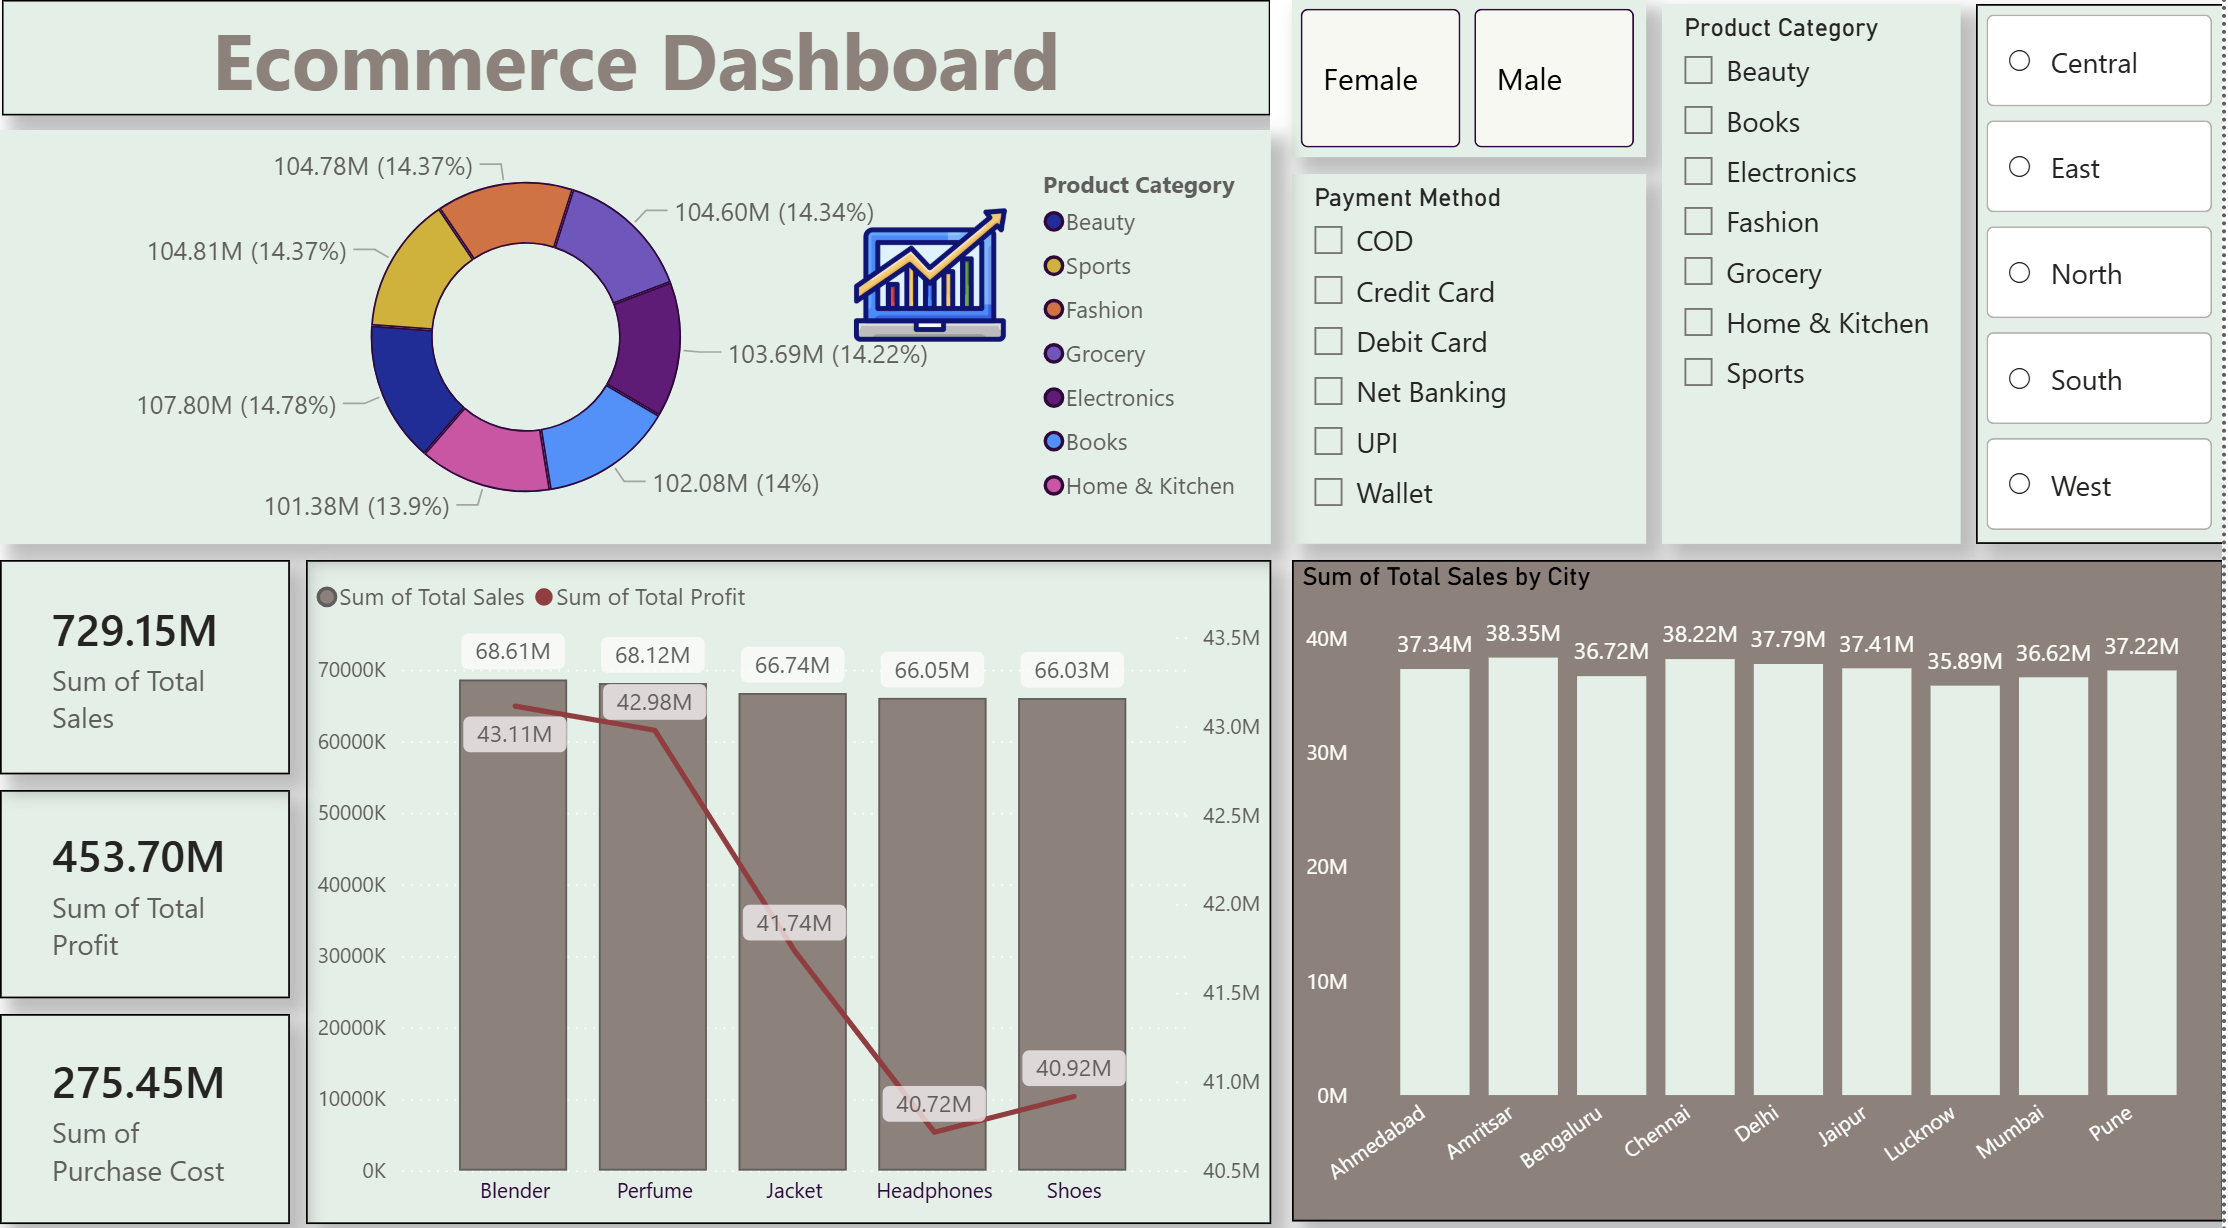

The page's visual inventory and layout, read from the dashboard file:
{"tool":"powerbi","page":{"name":"Page 1","canvas":[1280,720],"ordinal":0},"visuals":[{"type":"shape","box":[1.3,7.6,730.5,66.3],"z":0},{"type":"shape","box":[731.9,0,548.1,321.5],"z":1000},{"type":"advancedSlicerVisual","fields":{"Values":["Ecommerce Sales Data.Gender"]},"box":[744.5,7.6,204,90.5],"z":2000},{"type":"slicer","fields":{"Values":["Ecommerce Sales Data.Payment Method"]},"box":[744.5,108.4,204,212.9],"z":3000},{"type":"slicer","fields":{"Values":["Ecommerce Sales Data.Product Category"]},"box":[957.5,10.2,172.1,311.1],"z":4000},{"type":"lineClusteredColumnComboChart","fields":{"Y":["Sum(Ecommerce Sales Data.Amount)"],"Category":["Ecommerce Sales Data.Product Name"],"Y2":["Sum(Ecommerce Sales Data.Profit)"]},"box":[175.9,330.2,555.9,382.5],"z":5000},{"type":"advancedSlicerVisual","fields":{"Values":["Ecommerce Sales Data.Region"]},"box":[1138.5,10.2,142.8,311.1],"z":6000},{"type":"columnChart","fields":{"Category":["Ecommerce Sales Data.Payment Method","Ecommerce Sales Data.City"],"Y":["Sum(Ecommerce Sales Data.Total Sales)"]},"box":[744.5,330.2,536.7,381.2],"z":7000},{"type":"donutChart","fields":{"Category":["Ecommerce Sales Data.Product Category"],"Y":["Sum(Ecommerce Sales Data.Total Sales)"]},"box":[0,82.9,731.8,238.4],"z":8000},{"type":"image","box":[480.4,121,110.6,91],"z":9000},{"type":"cardVisual","fields":{"Data":["Sum(Ecommerce Sales Data.Total Profit)"]},"box":[0,462.8,167,119.8],"z":10000},{"type":"cardVisual","fields":{"Data":["Sum(Ecommerce Sales Data.Total Sales)"]},"box":[0,330.2,167,123.7],"z":11000},{"type":"cardVisual","fields":{"Data":["Sum(Ecommerce Sales Data.Purchase Cost)"]},"box":[0,591.6,167,121.1],"z":12000}]}

Visuals, with their boxes in screenshot pixels (x1, y1, x2, y2), scaled from the page's 1280x720 canvas onto the 2228x1228 screenshot:
shape: (x1=2, y1=13, x2=1274, y2=126)
shape: (x1=1274, y1=0, x2=2227, y2=548)
advancedSlicerVisual - Ecommerce Sales Data.Gender: (x1=1296, y1=13, x2=1651, y2=167)
slicer - Ecommerce Sales Data.Payment Method: (x1=1296, y1=185, x2=1651, y2=548)
slicer - Ecommerce Sales Data.Product Category: (x1=1667, y1=17, x2=1966, y2=548)
lineClusteredColumnComboChart - Sum(Ecommerce Sales Data.Amount) x Ecommerce Sales Data.Product Name: (x1=306, y1=563, x2=1274, y2=1216)
advancedSlicerVisual - Ecommerce Sales Data.Region: (x1=1982, y1=17, x2=2227, y2=548)
columnChart - Ecommerce Sales Data.Payment Method x Ecommerce Sales Data.City: (x1=1296, y1=563, x2=2227, y2=1213)
donutChart - Ecommerce Sales Data.Product Category x Sum(Ecommerce Sales Data.Total Sales): (x1=0, y1=141, x2=1274, y2=548)
image: (x1=836, y1=206, x2=1029, y2=362)
cardVisual - Sum(Ecommerce Sales Data.Total Profit): (x1=0, y1=789, x2=291, y2=994)
cardVisual - Sum(Ecommerce Sales Data.Total Sales): (x1=0, y1=563, x2=291, y2=774)
cardVisual - Sum(Ecommerce Sales Data.Purchase Cost): (x1=0, y1=1009, x2=291, y2=1216)
